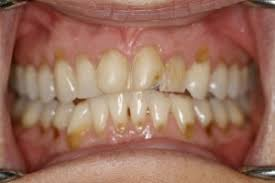normal: (98, 50, 129, 95), (76, 56, 96, 97), (209, 60, 228, 100), (22, 64, 37, 100), (211, 101, 229, 130), (24, 102, 38, 136), (225, 103, 246, 125), (228, 63, 240, 99), (15, 63, 24, 95), (239, 67, 248, 95)
rough: (131, 95, 149, 135), (112, 91, 129, 133), (150, 94, 170, 129)
yellow: (131, 47, 163, 92), (53, 52, 77, 102), (162, 55, 186, 96), (188, 51, 208, 100), (173, 96, 195, 137), (68, 101, 91, 140), (192, 98, 213, 134), (39, 55, 55, 102), (54, 103, 73, 135), (94, 100, 109, 135), (39, 105, 54, 136)
